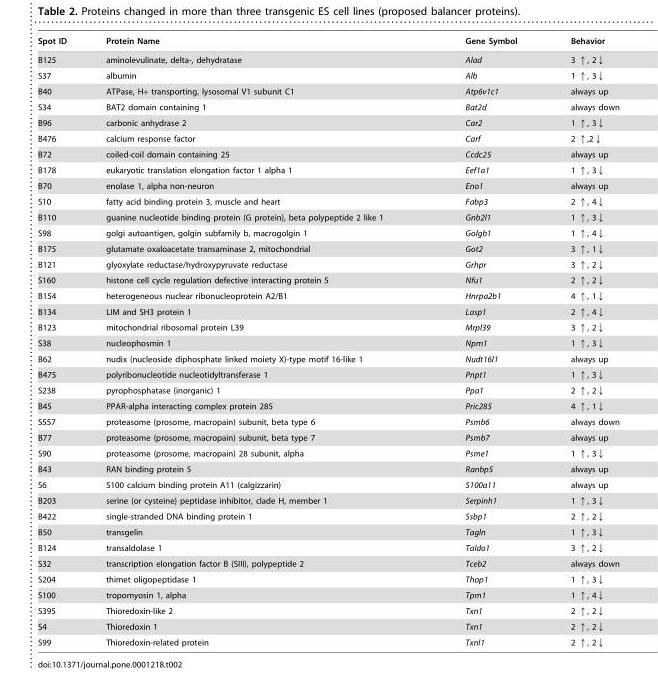table: (37, 36, 618, 646)
table column: (85, 36, 423, 646), (423, 36, 543, 646), (543, 36, 618, 646), (37, 36, 85, 646)
table column header: (37, 36, 618, 50)
table row: (37, 50, 618, 67), (37, 82, 618, 99), (37, 114, 618, 130), (37, 130, 618, 146), (37, 161, 618, 177), (37, 177, 618, 193), (37, 193, 618, 209), (37, 224, 618, 240), (37, 240, 618, 256), (37, 256, 618, 272), (37, 287, 618, 303), (37, 303, 618, 319), (37, 334, 618, 350), (37, 350, 618, 366), (37, 366, 618, 382), (37, 382, 618, 398), (37, 413, 618, 429), (37, 429, 618, 445), (37, 445, 618, 461), (37, 476, 618, 492), (37, 492, 618, 508), (37, 523, 618, 539), (37, 539, 618, 555), (37, 555, 618, 571), (37, 586, 618, 602), (37, 602, 618, 618), (37, 618, 618, 634), (37, 67, 618, 82), (37, 99, 618, 114), (37, 146, 618, 161), (37, 209, 618, 224), (37, 272, 618, 287), (37, 319, 618, 334), (37, 398, 618, 413), (37, 461, 618, 476), (37, 508, 618, 523), (37, 571, 618, 586), (37, 36, 618, 50), (37, 634, 618, 646)
